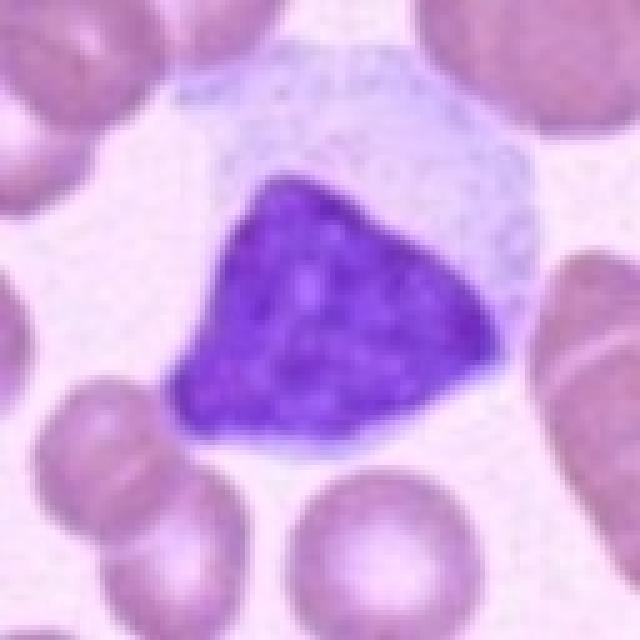lympho: (148, 27, 553, 462)
